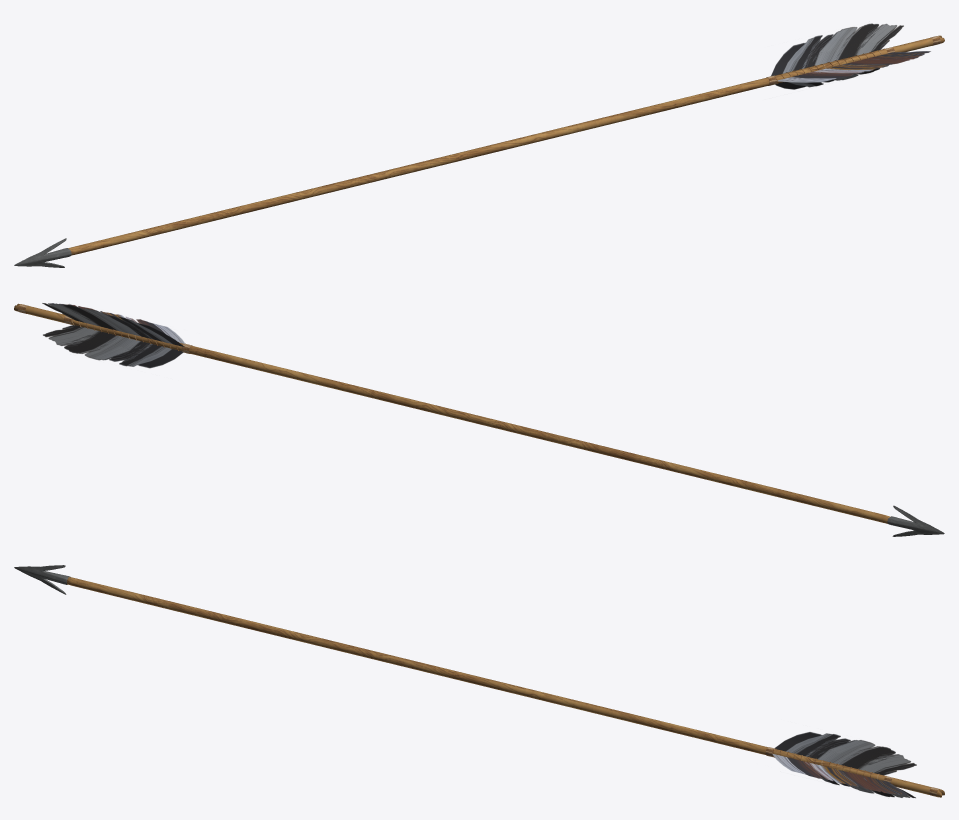
The model's file is medieval_arrow.glb.
3 views of the same model, one above another, from view 1: azimuth 30°, elevation 25°; view 2: azimuth 150°, elevation 25°; view 3: azimuth 330°, elevation 25° (orthographic).
Visible parts, largest first — view 1: Shaft_2, Fletching2.002_6, Fletching1.001_4, Arrowhead_3; view 2: Shaft_2, Fletching2.001_5, Fletching2.002_6, Arrowhead_3; view 3: Shaft_2, Fletching2.002_6, Fletching1.001_4, Arrowhead_3.
Boxes of the visible parts, x1,y1,x2,y2 form: Shaft_2: (68,35,944,255); Fletching2.002_6: (771,23,903,75); Fletching1.001_4: (777,51,930,82); Arrowhead_3: (14,238,71,267); Shaft_2: (14,303,890,523); Fletching2.001_5: (43,325,183,368); Fletching2.002_6: (42,303,184,346); Arrowhead_3: (887,505,944,536); Shaft_2: (67,577,944,797); Fletching2.002_6: (775,732,916,775); Fletching1.001_4: (772,754,908,795); Arrowhead_3: (14,565,70,594).
Bounding box in the file's own units: 32.65 × 1.72 × 1.62.
5 materials, 5 textured.
